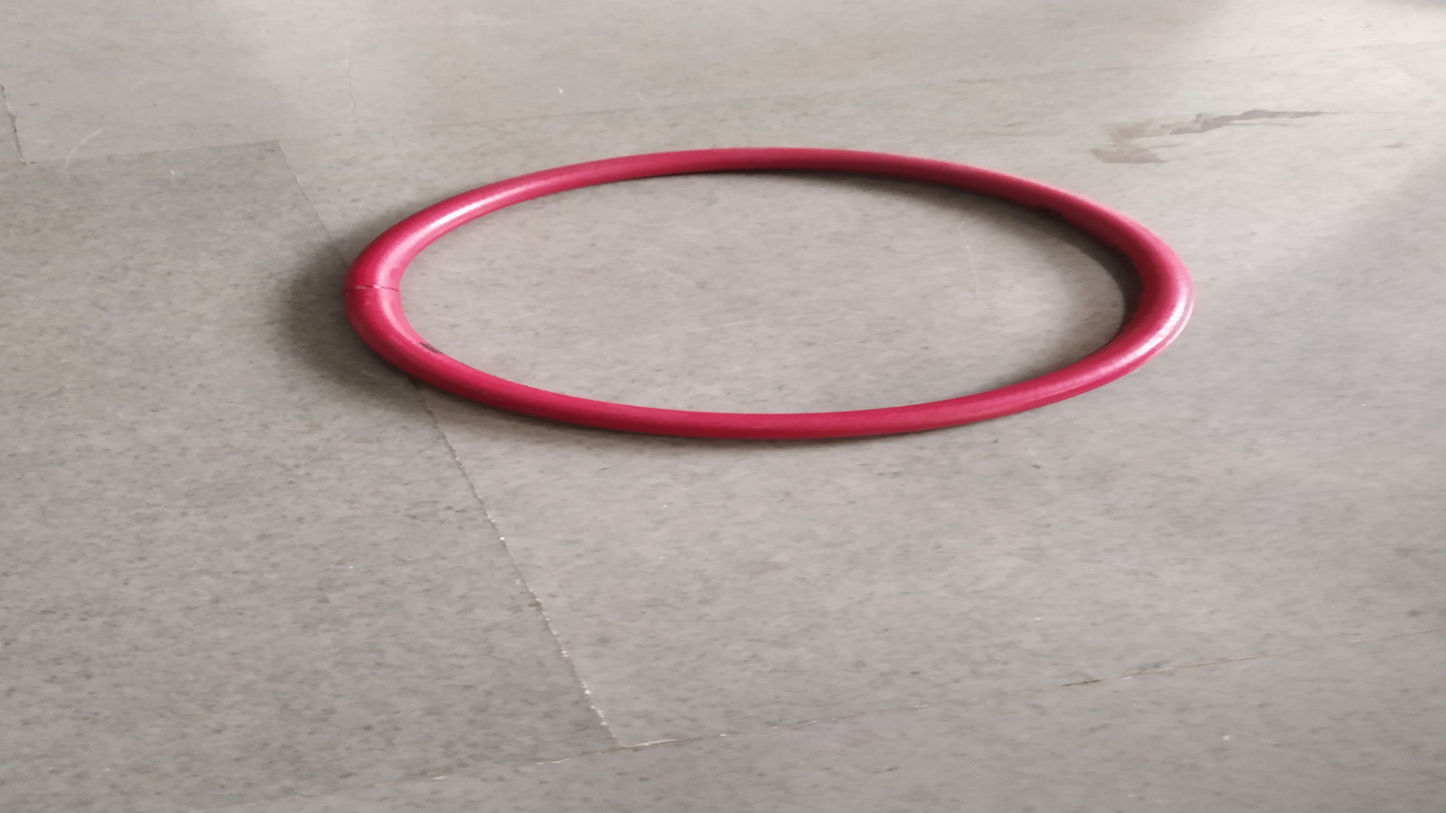Red ring: (344, 149, 1192, 452)
